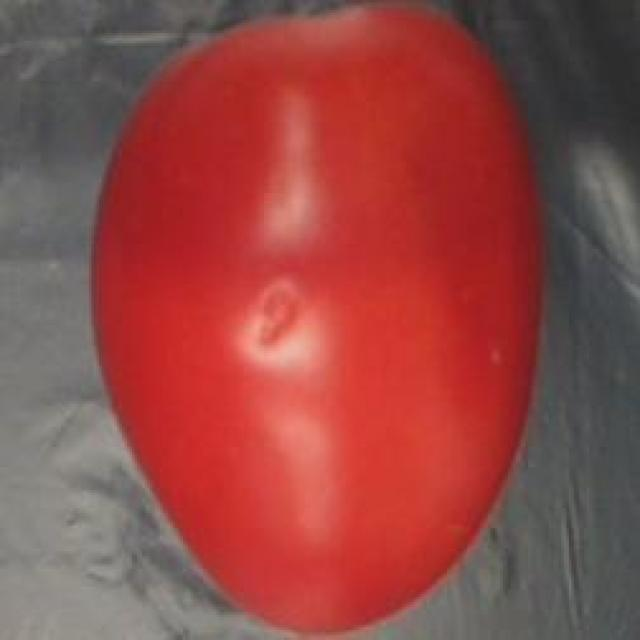ripe tomato: (76, 0, 561, 640)
